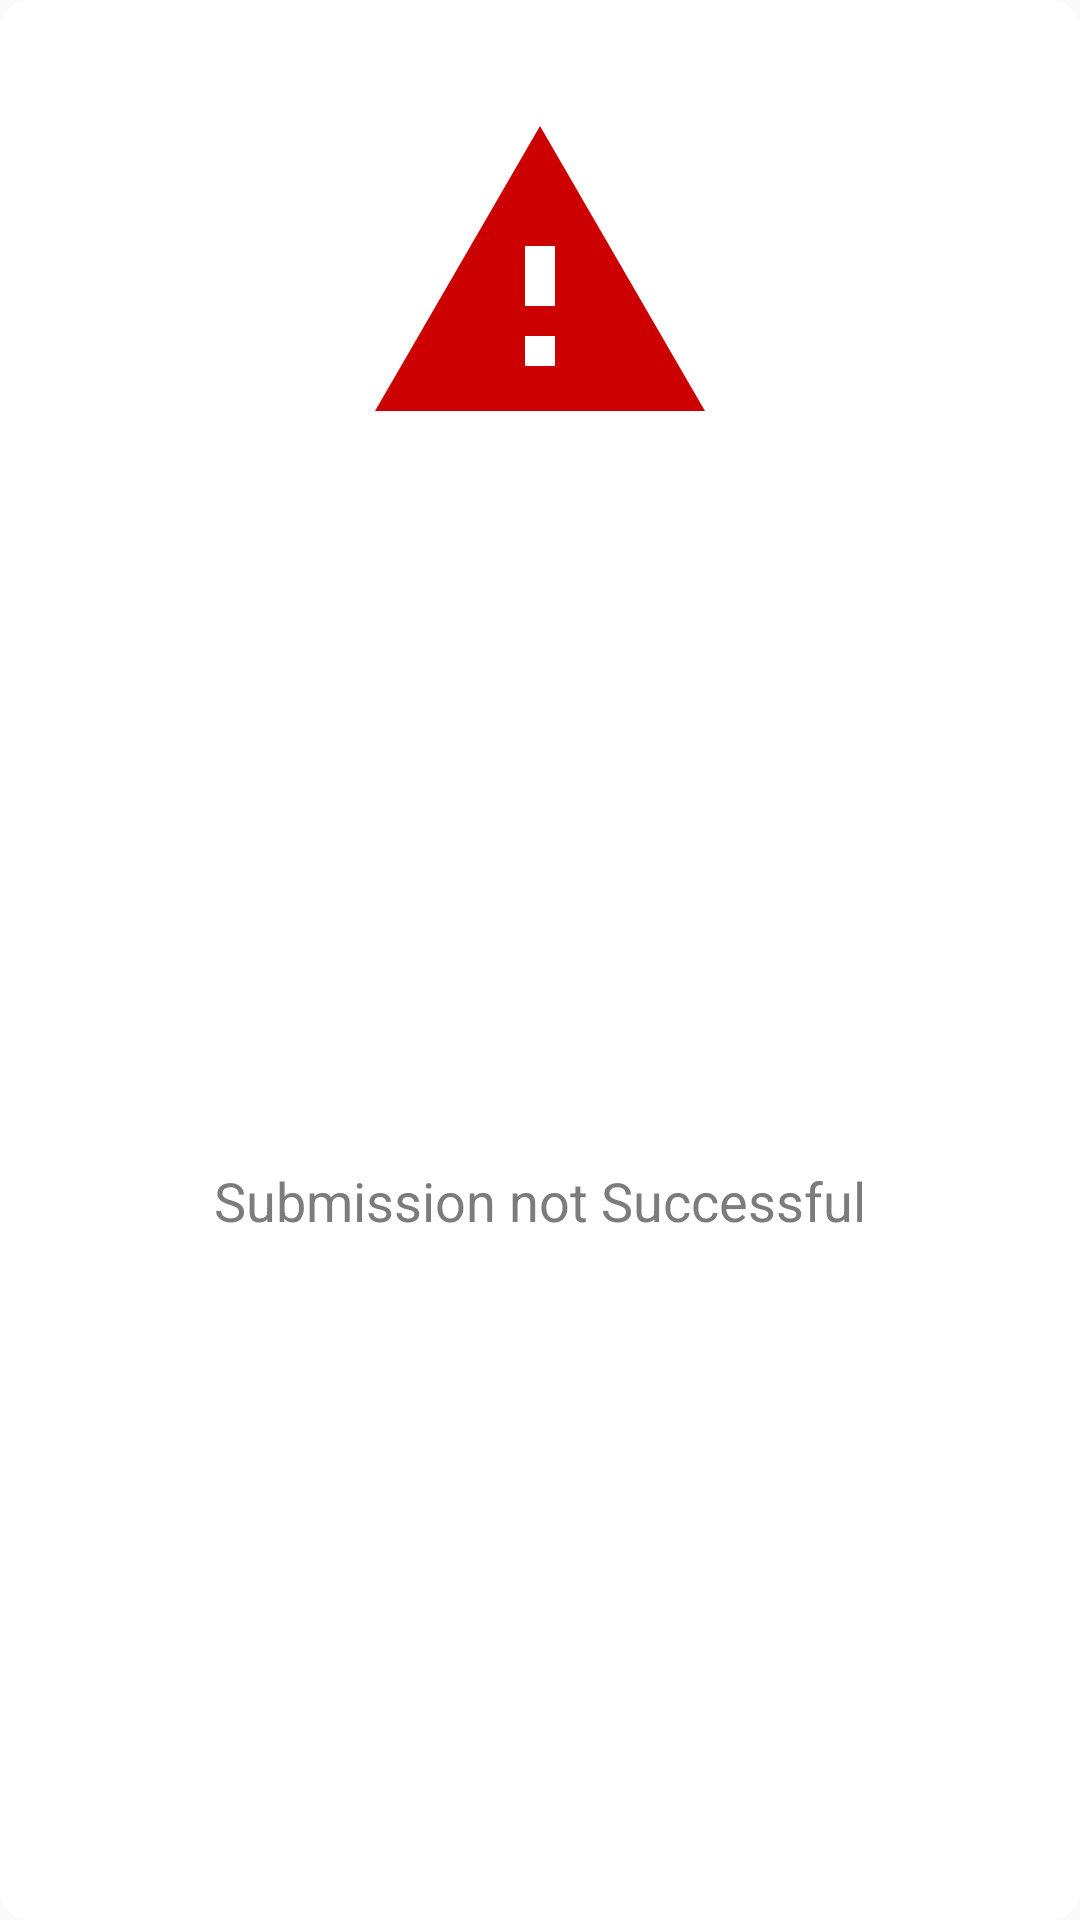

Point at icon controls on the screen. Image size 1080*1920, points as (x,y).
custom failed: (540,268)
